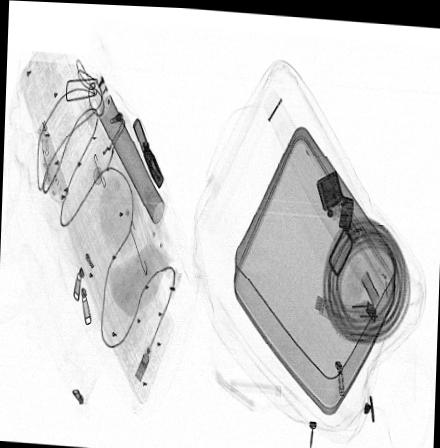Lighter: (315, 165, 352, 227), (132, 115, 163, 187)
